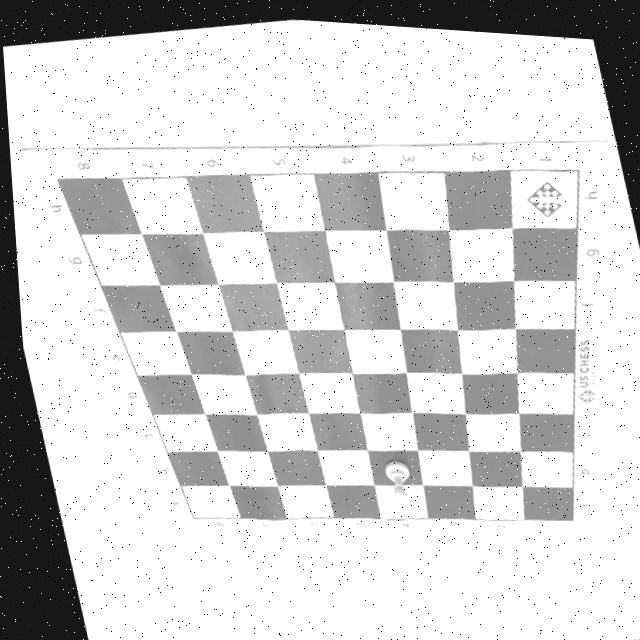chessboard: (56, 164, 580, 517)
